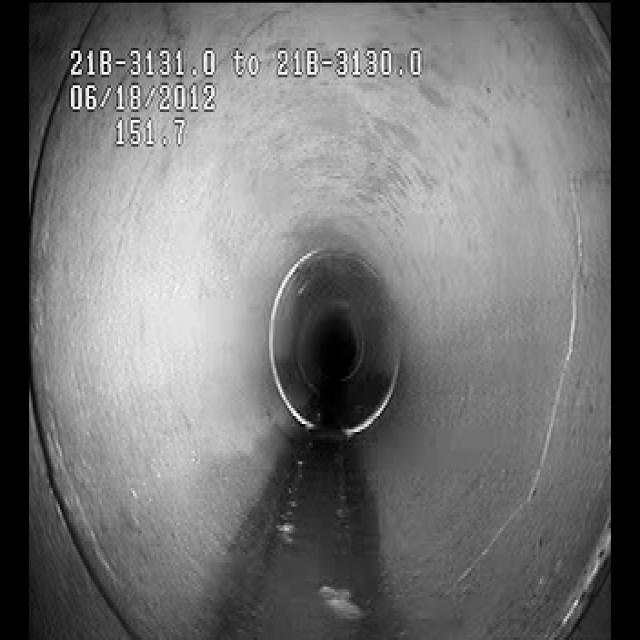Crack: (508, 152, 598, 520)
